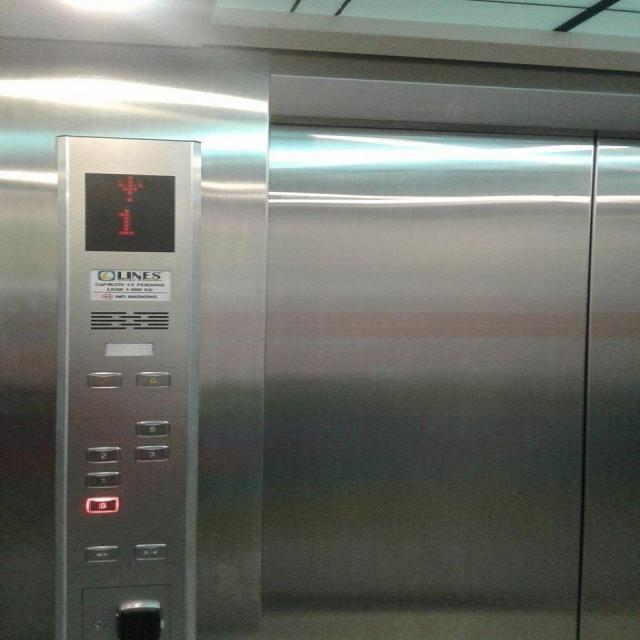1: (83, 471, 121, 488)
2: (85, 445, 121, 464)
3: (131, 444, 170, 463)
5: (133, 419, 170, 438)
B: (81, 495, 121, 514)
alarm: (132, 370, 171, 389)
blur: (84, 371, 122, 389)
close: (130, 542, 169, 561)
keyhole: (88, 618, 106, 631)
led: (81, 170, 178, 253)
open: (82, 544, 120, 563)
